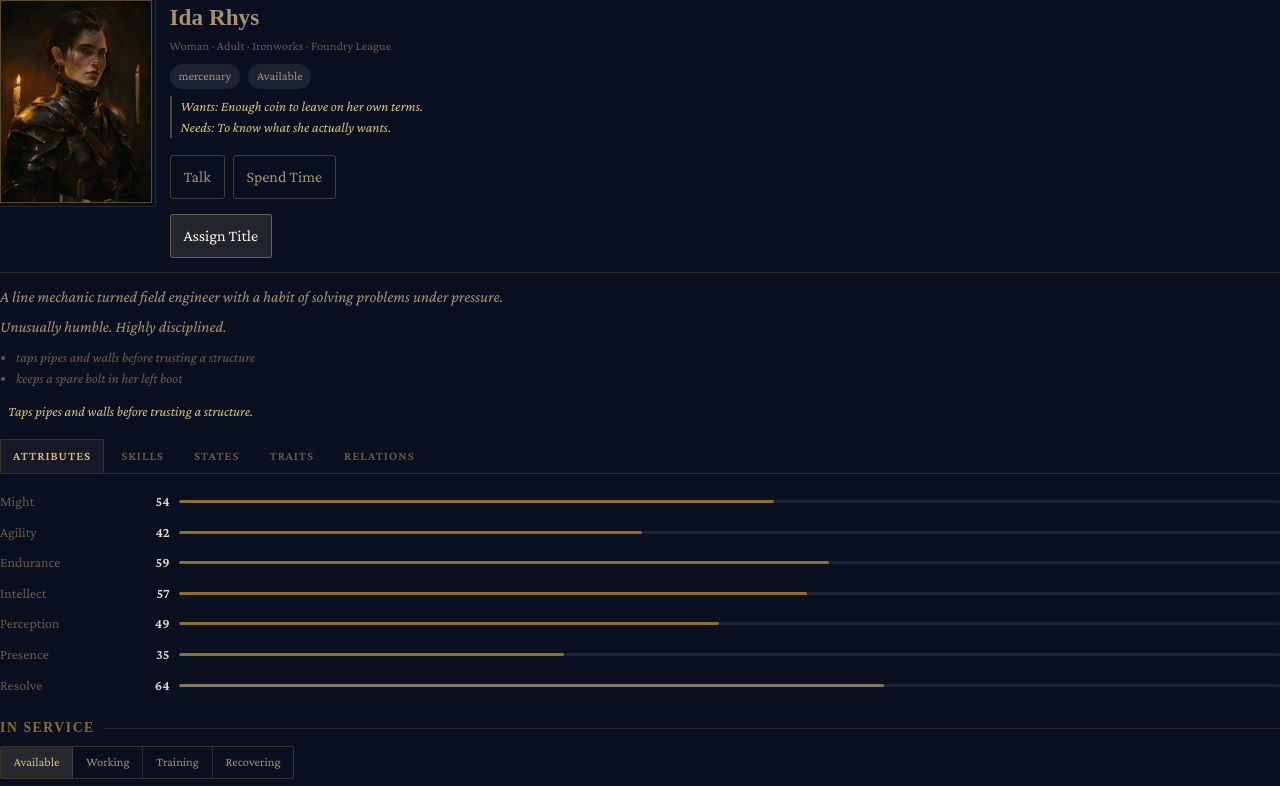
Test: NpcDetailPanel — courtship loop › opens the intimacy modal from Spend Time when the bond is established
Click the button "Spend Time" at (284, 177), box [233, 155, 336, 199]
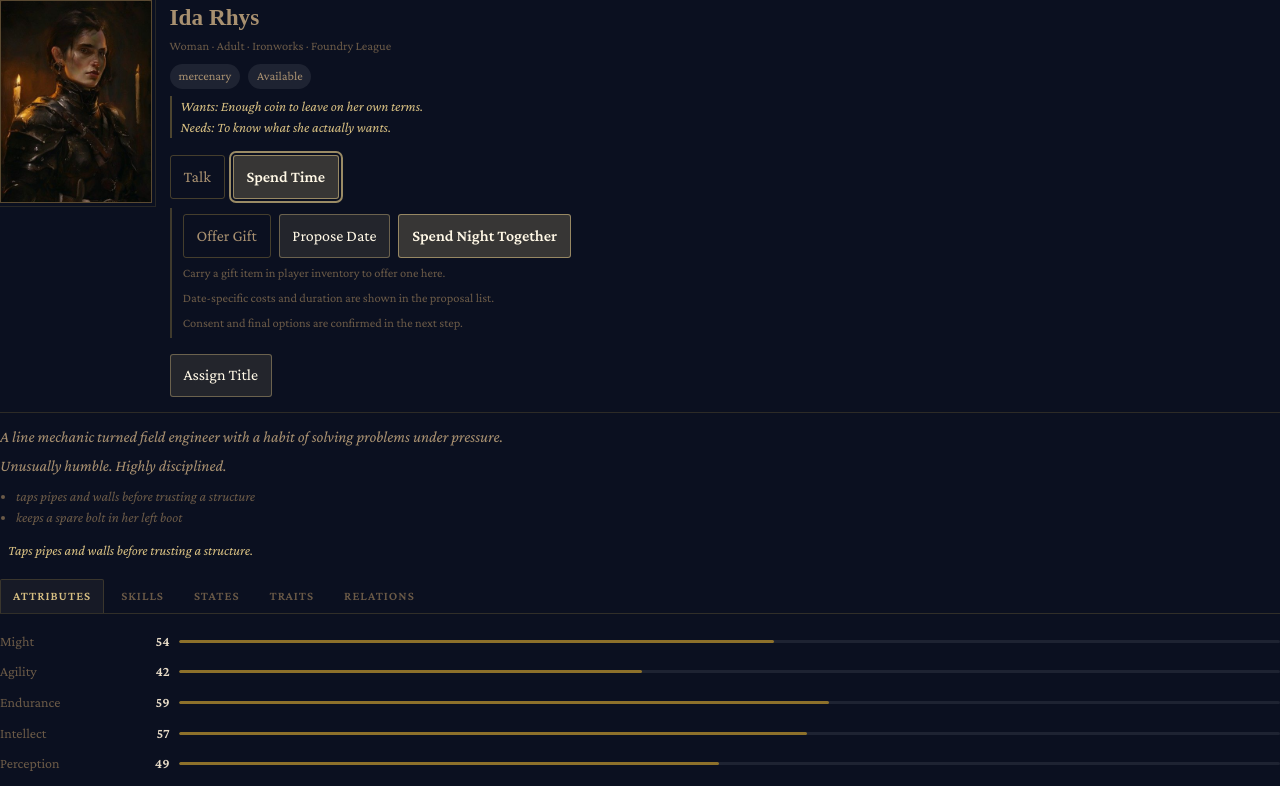
Click the button "Spend Night Together" at (485, 236), box [398, 214, 571, 258]
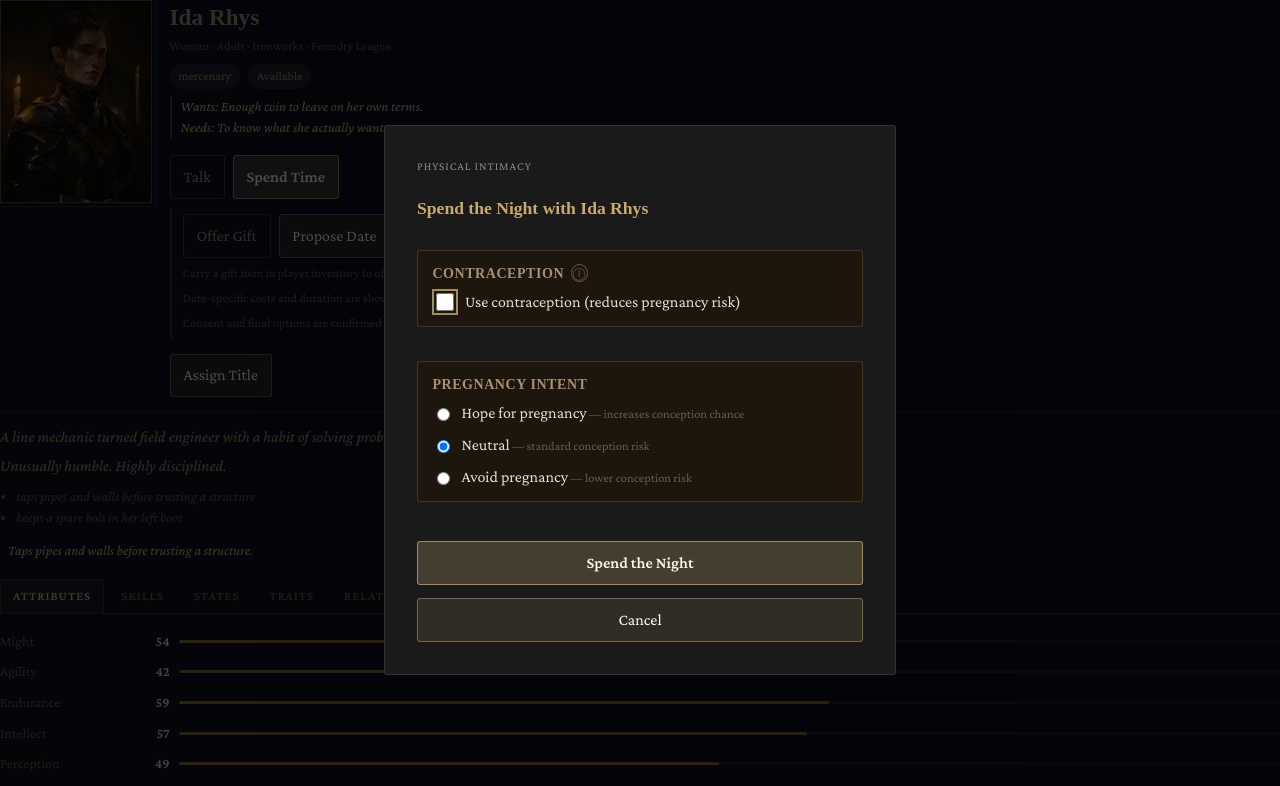
Expected: the heading "Spend the Night with Ida Rhys" is shown, [417, 198, 648, 218]
Expected: the heading "Pregnancy Intent" is shown, [432, 377, 588, 392]
